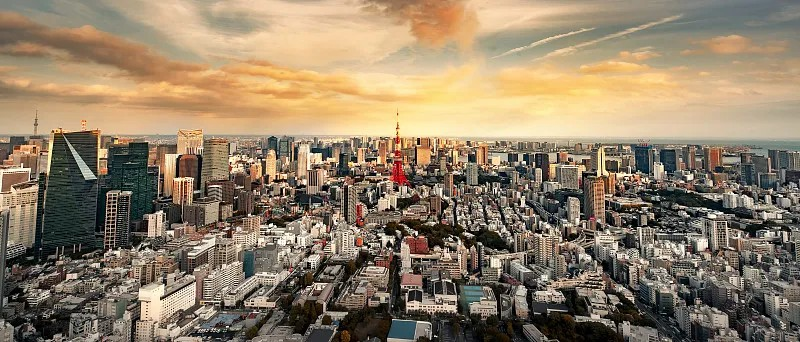Tokyo: (387, 108, 412, 189)
